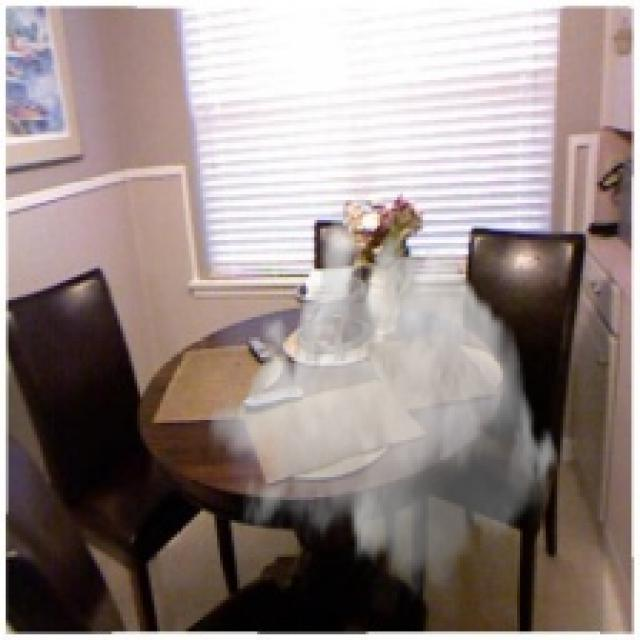smoke: (206, 206, 560, 603)
